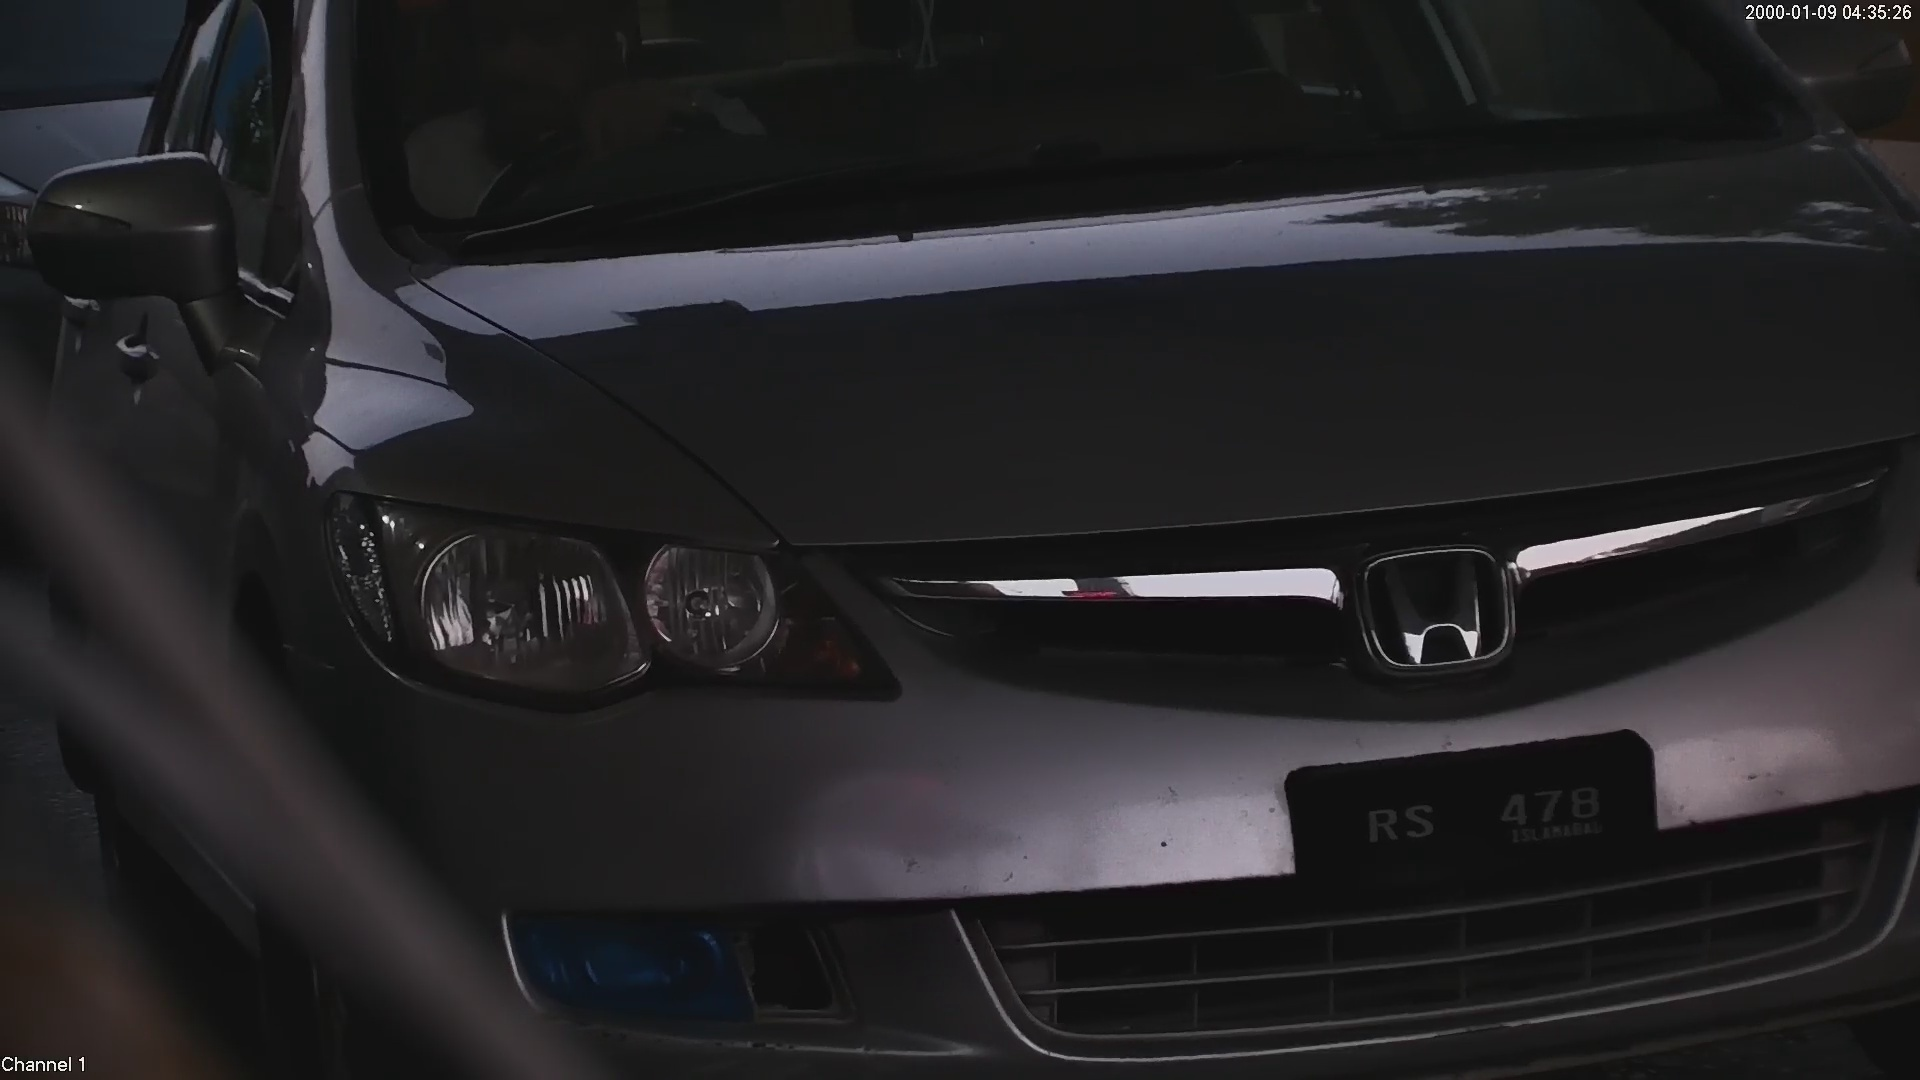Number_Plate: (1286, 740, 1680, 890)
Undefined: (367, 516, 782, 699), (497, 896, 747, 1018), (1354, 544, 1508, 664)
